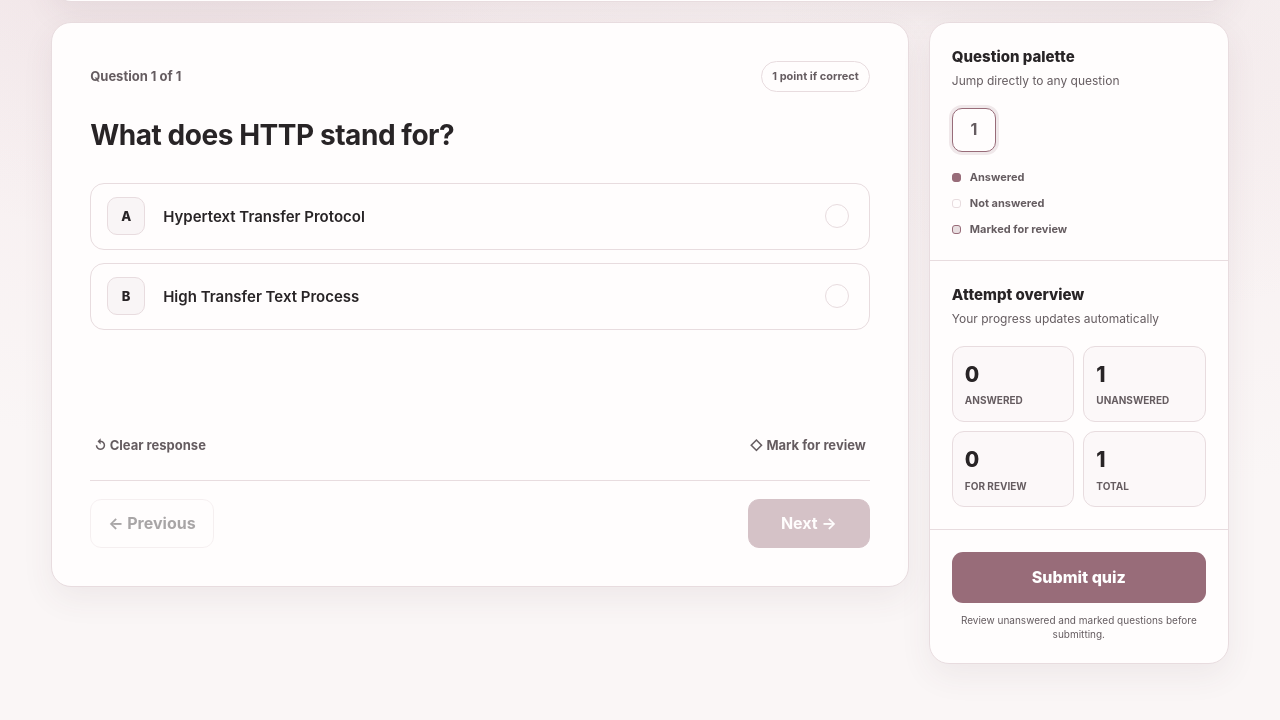
Test case: CSMQ-45 / real frontend submission service to result callback › does not advance to a result when the server rejects a submission
(page scrolled)
Click the button "Submit quiz": click(1079, 577) x1=952 y1=552 x2=1206 y2=603
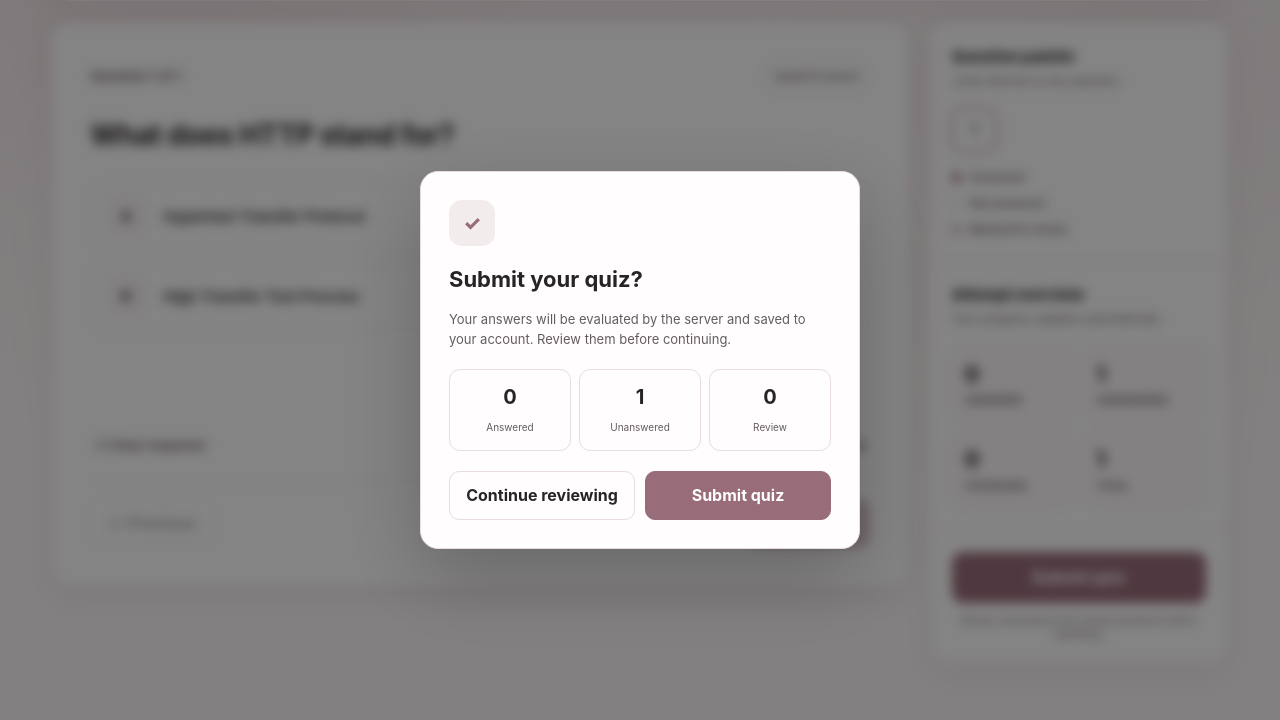
Click the button "Submit quiz": click(738, 496) x1=645 y1=471 x2=831 y2=520
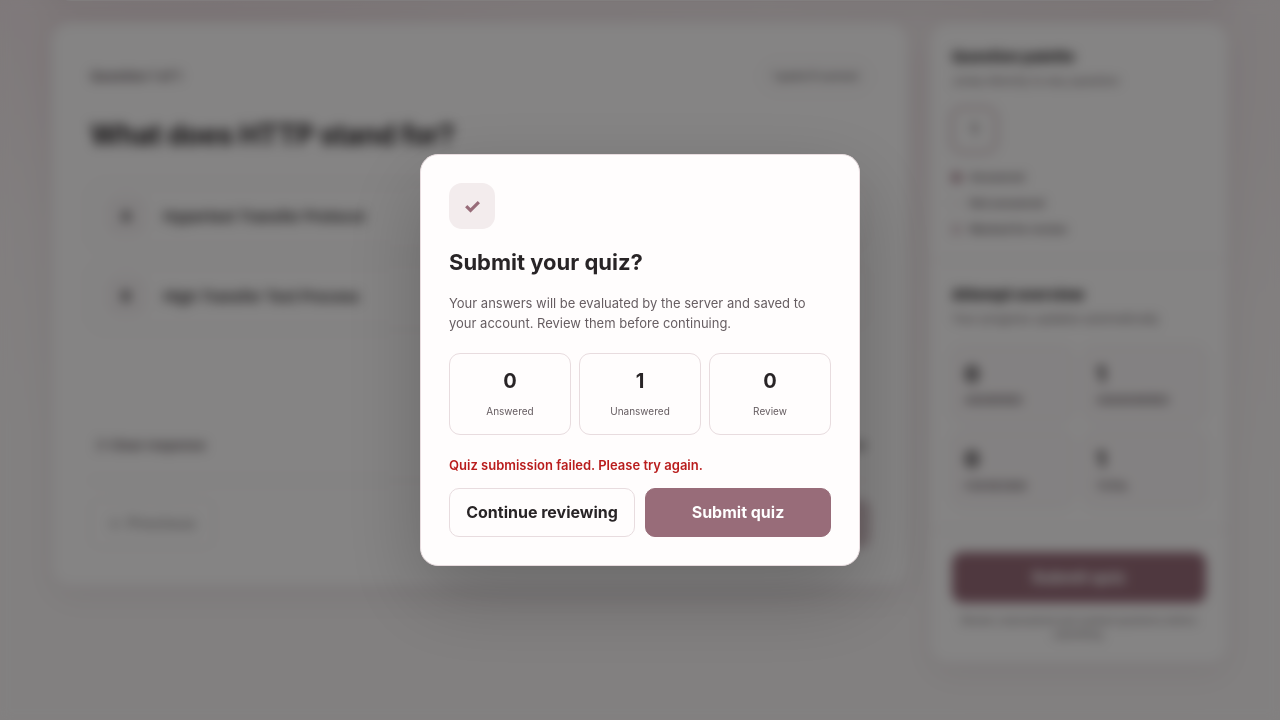
Check: the message "Quiz submission failed. Please try again." is shown, box x1=449 y1=457 x2=703 y2=473
